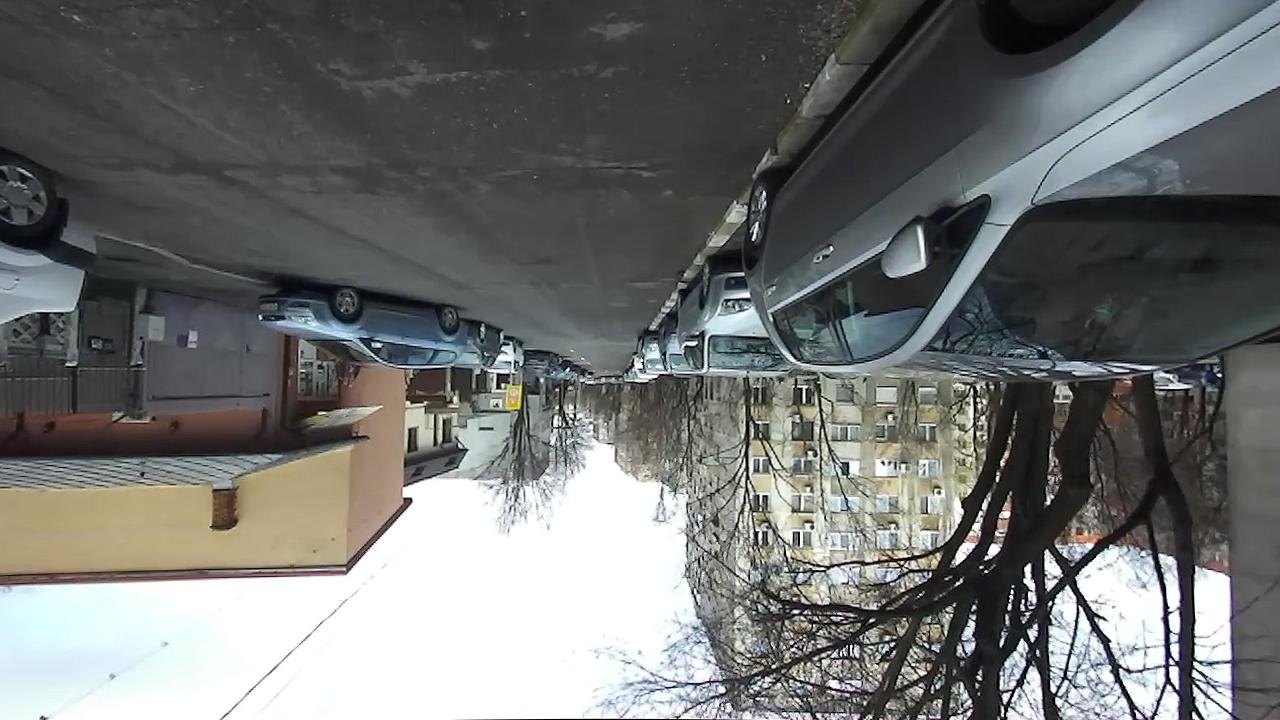pothole: (572, 154, 661, 179)
